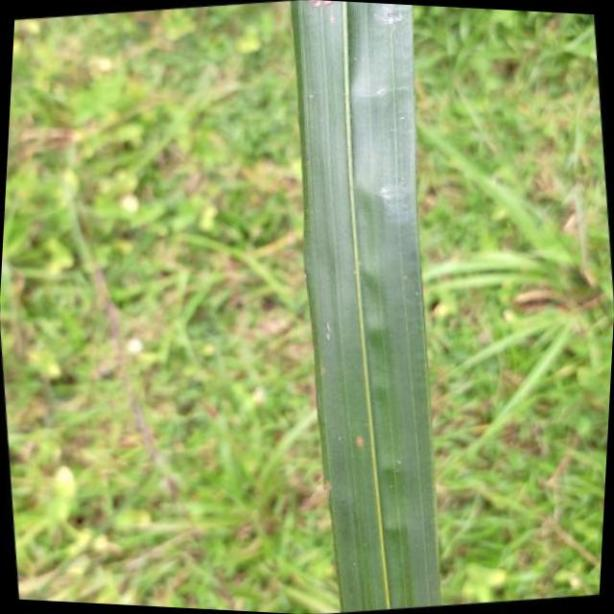Boron: (290, 0, 444, 614)
